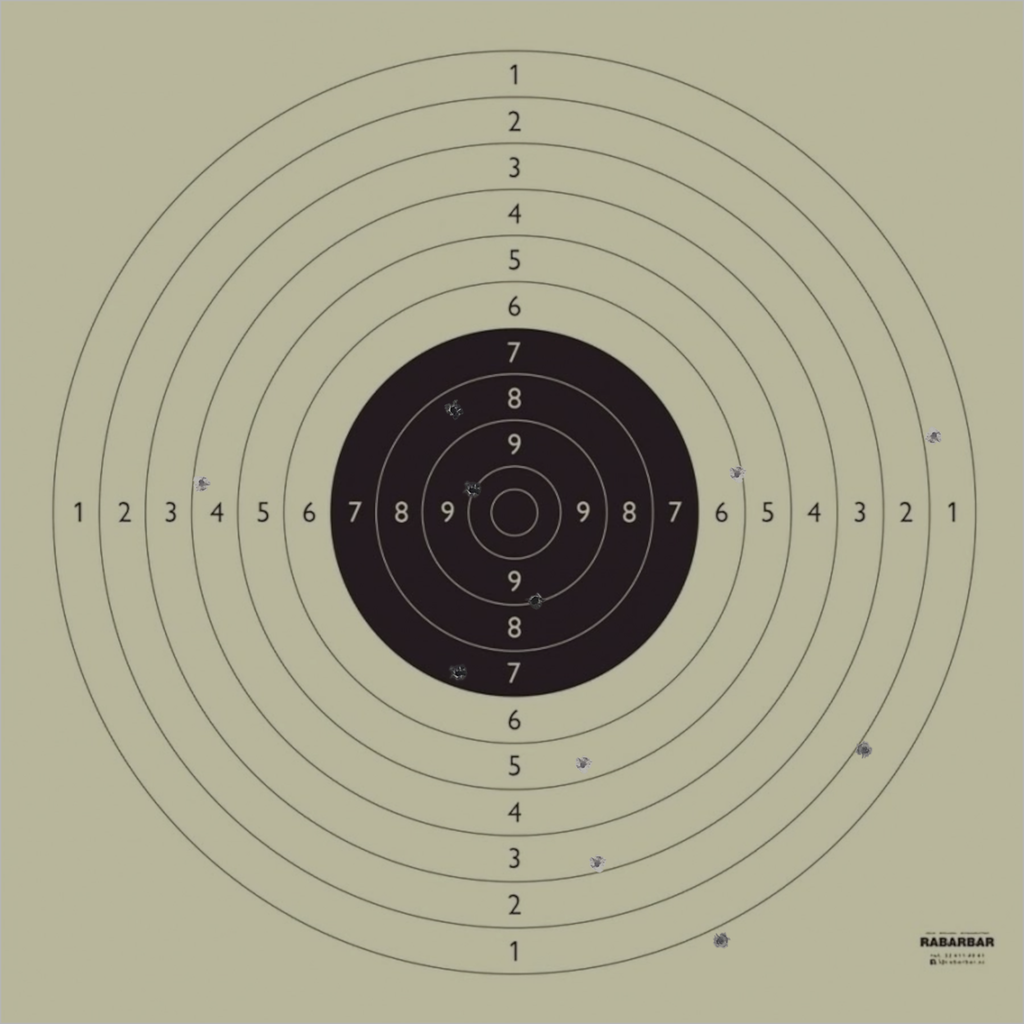0 punktow: (711, 932, 730, 950)
1 punkt: (925, 427, 943, 445)
10 punktow: (463, 481, 481, 499)
2 punkty: (855, 741, 874, 759)
3 punkty: (588, 854, 606, 873)
4 punkty: (193, 474, 211, 492)
5 punktow: (574, 755, 592, 774)
6 punktow: (728, 465, 746, 483)
7 punktow: (449, 664, 467, 682)
8 punktow: (445, 401, 463, 420)
9 punktow: (526, 591, 545, 610)
